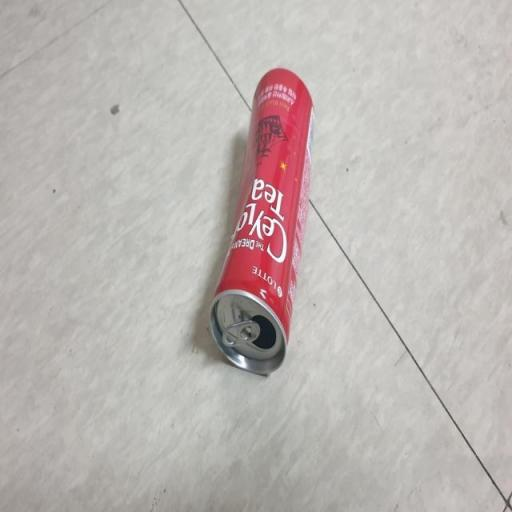metal: (194, 48, 326, 397)
